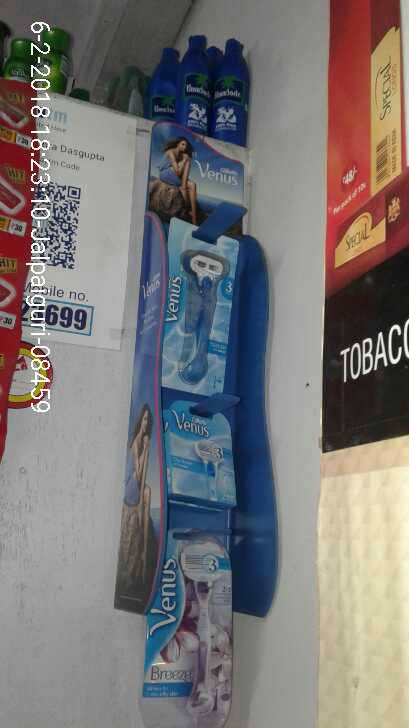venus: (141, 526, 233, 728), (152, 221, 240, 396), (153, 398, 251, 511)
